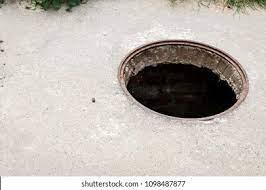open manhole-not overflowing-: (116, 36, 254, 123)
